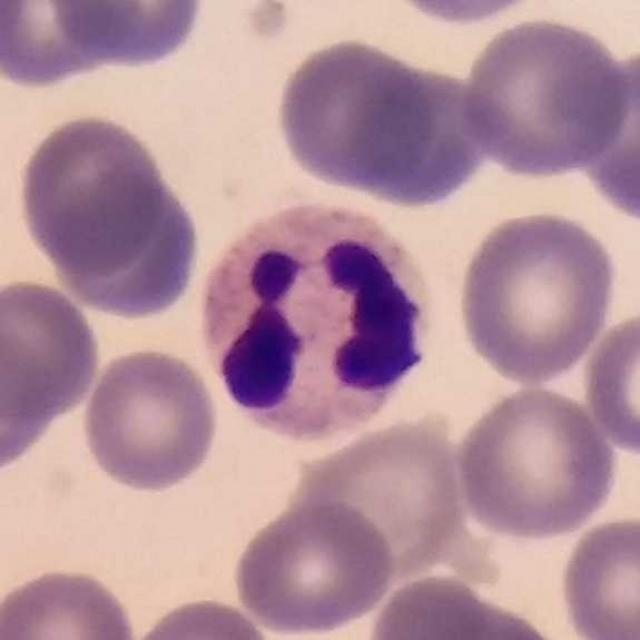Neutrophil: (192, 194, 448, 454)
RBC: (269, 32, 460, 207), (288, 414, 473, 580), (453, 206, 621, 386), (456, 13, 634, 180), (451, 382, 622, 544), (14, 109, 170, 278), (50, 166, 205, 323), (228, 496, 398, 639), (78, 344, 223, 495), (0, 275, 104, 424), (3, 24, 213, 94), (364, 570, 568, 640), (573, 44, 640, 228), (42, 0, 210, 72), (0, 0, 121, 91), (555, 512, 640, 640), (0, 563, 140, 640), (0, 314, 58, 485), (580, 305, 640, 461), (124, 593, 277, 640), (373, 0, 554, 29)
